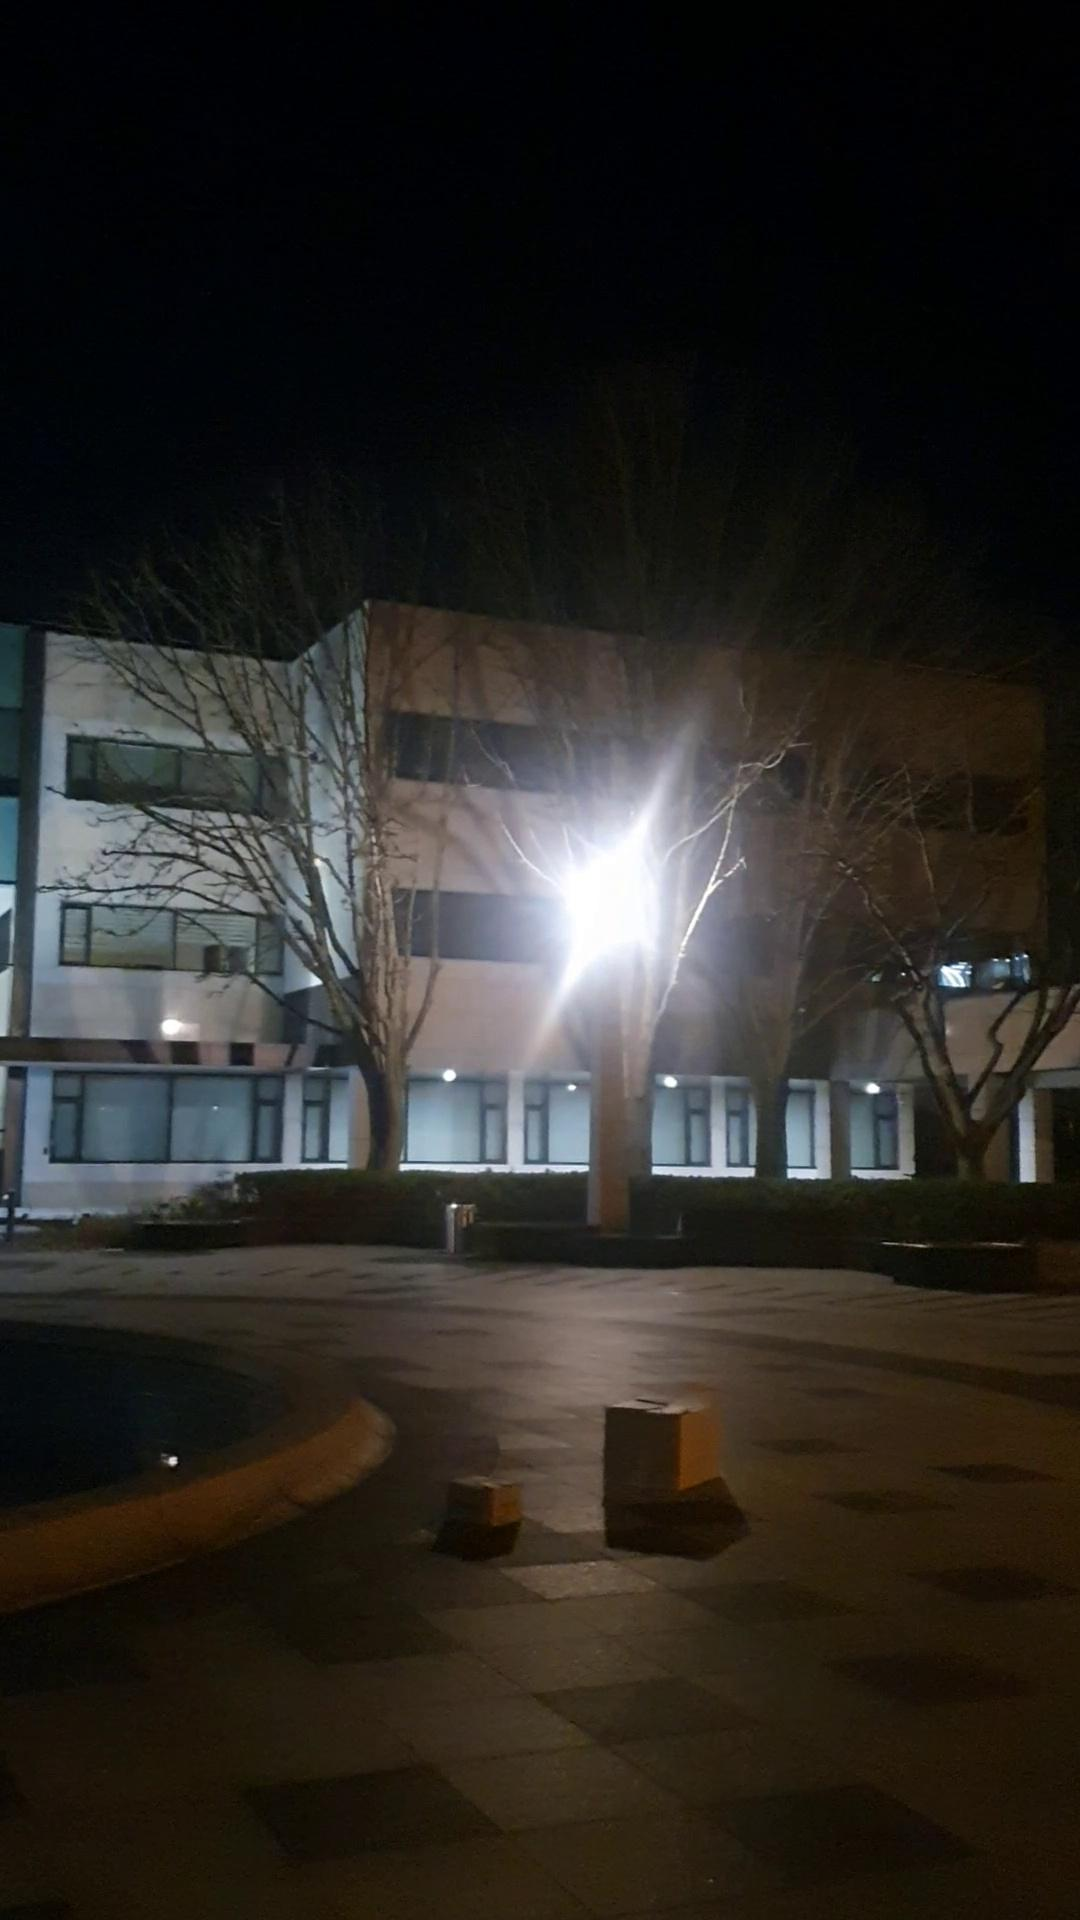Box: (597, 1385, 717, 1502), (436, 1465, 533, 1542)
